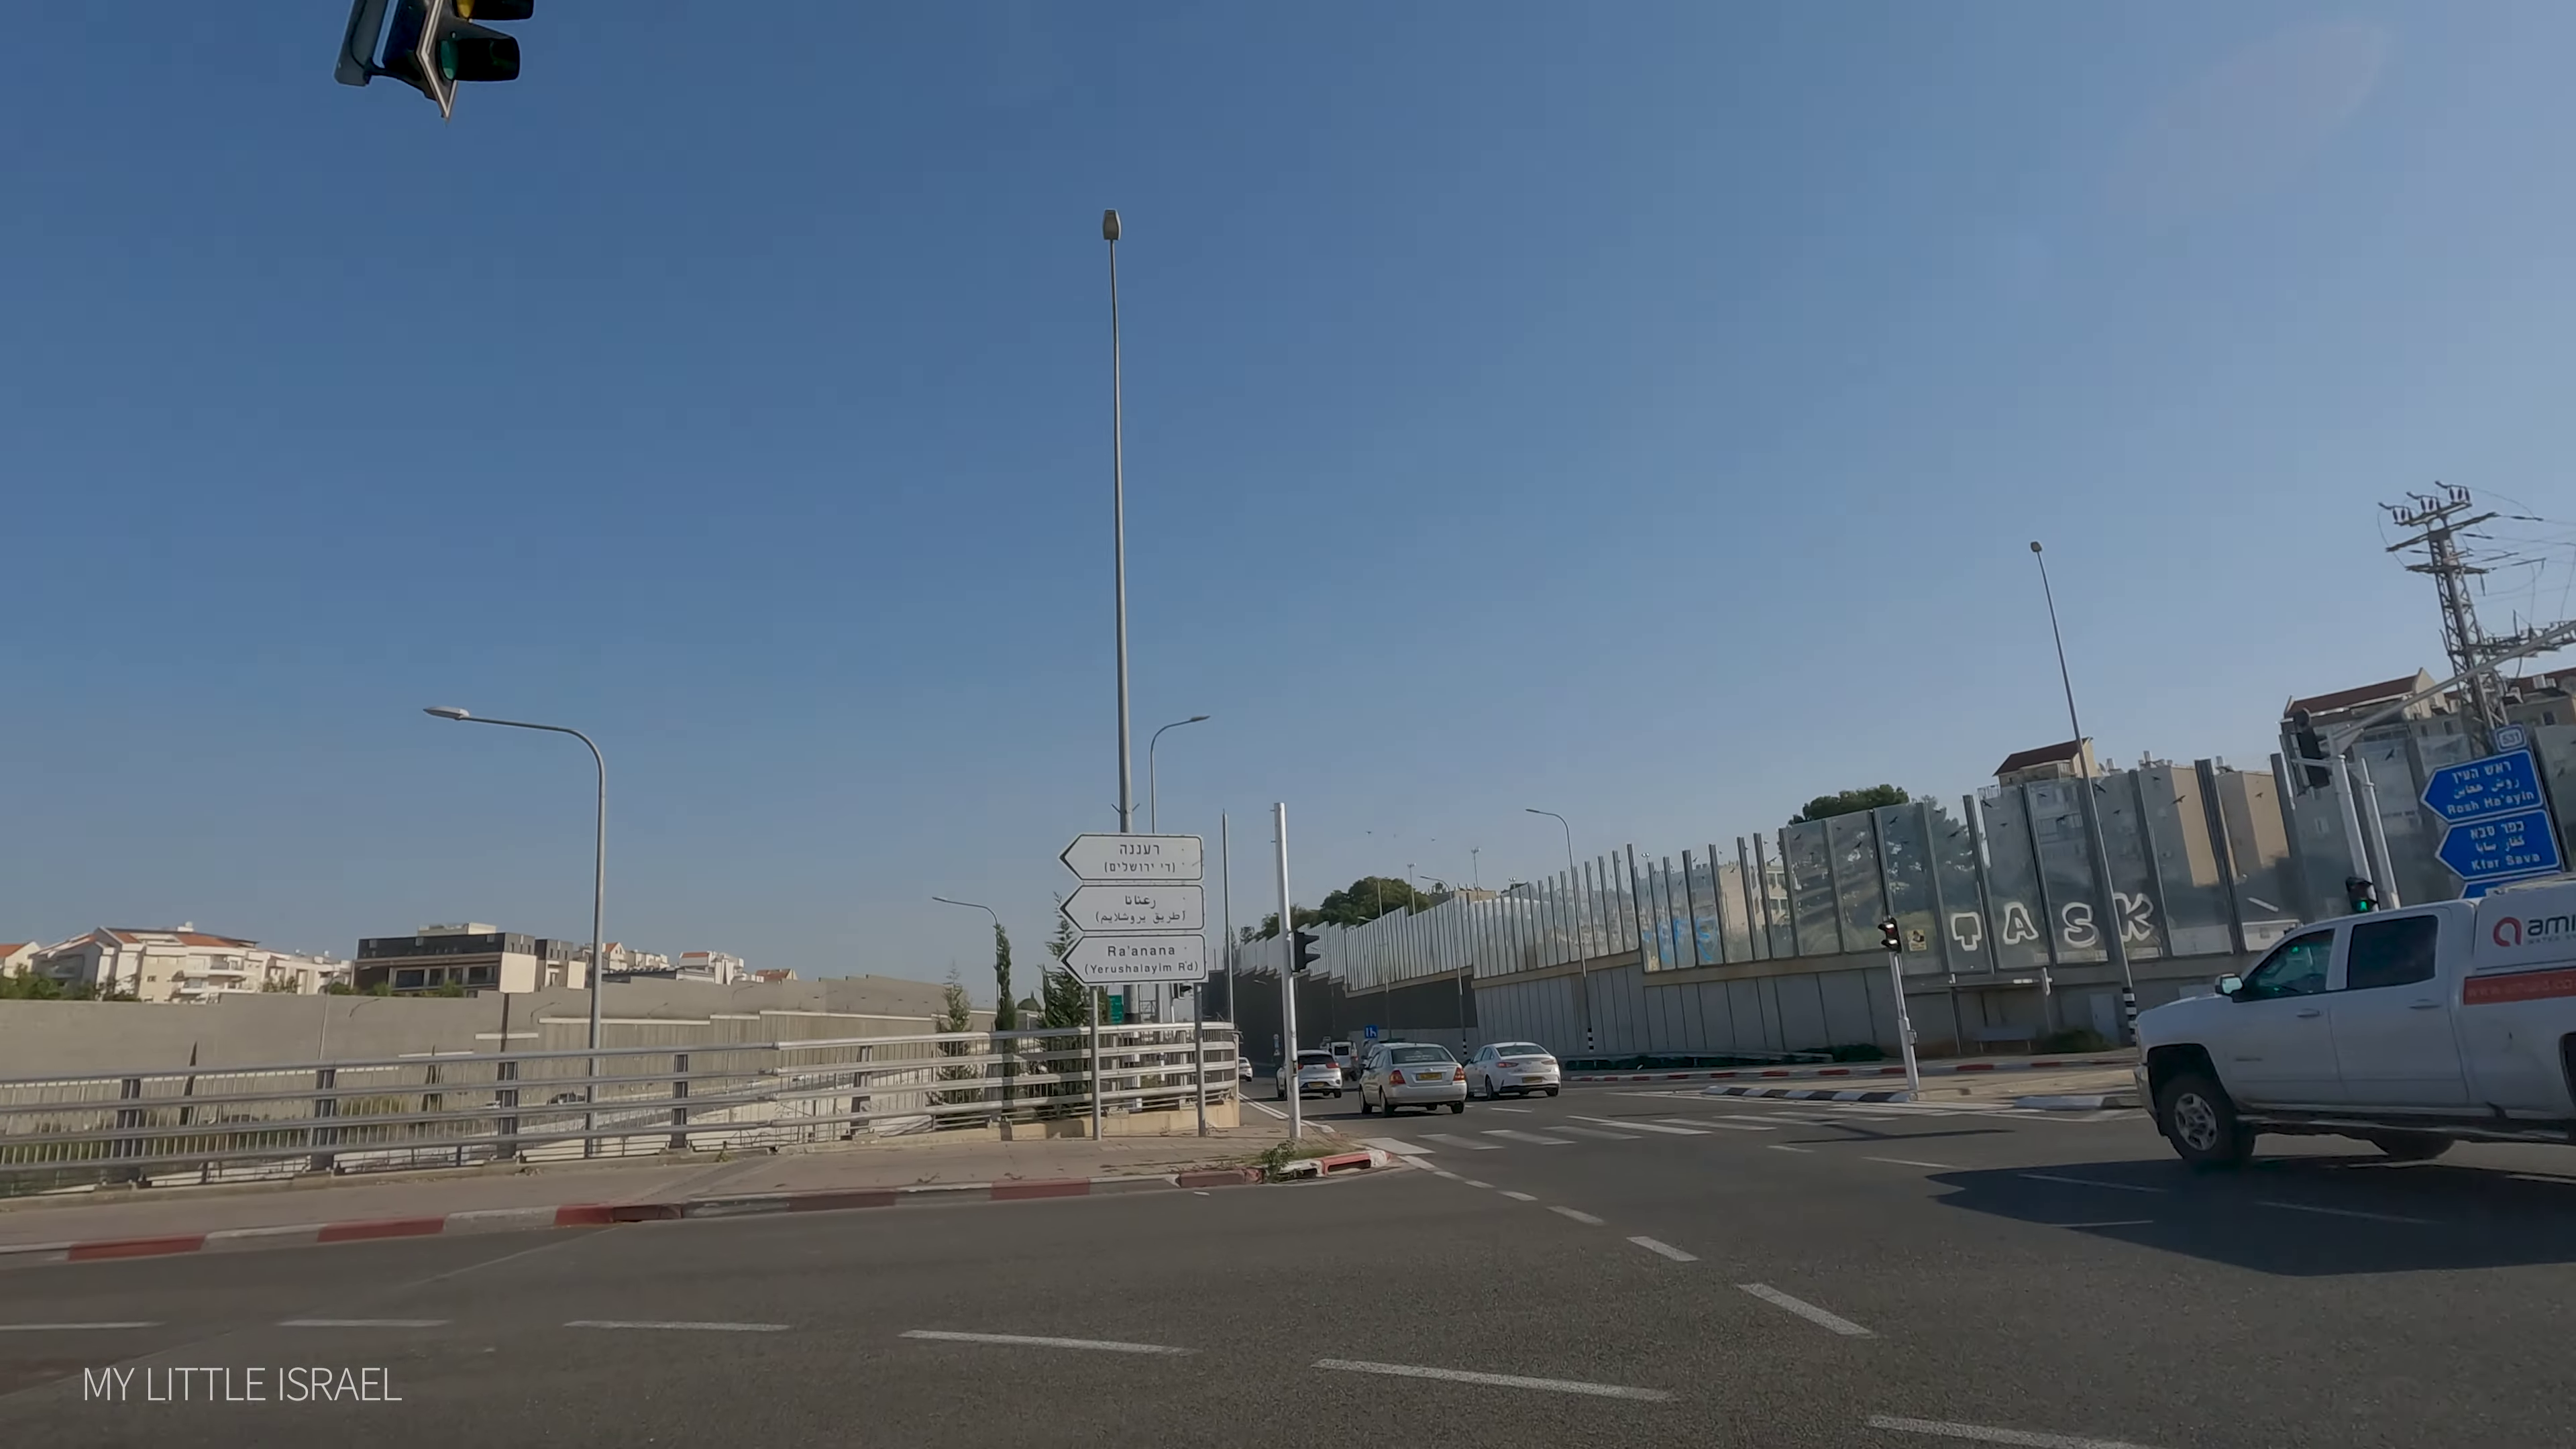licence: (1416, 1073, 1442, 1080), (1523, 1077, 1543, 1083)
